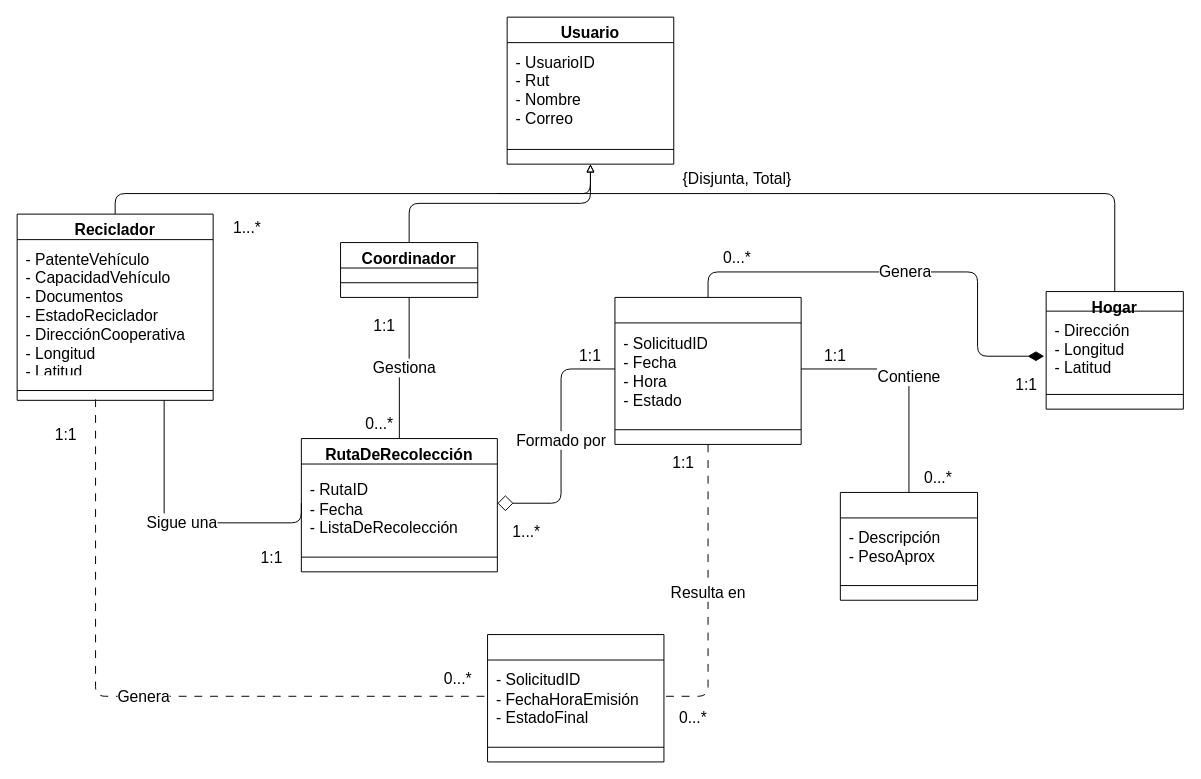
Image size: 1201x779. Some labels were removed from this diagram. The shapes that lost their labels are listed below. From the top down, each one's box as (x1, y1, x2, y2) in pixels, then its label:
(614, 296, 801, 444): SolicitudDeRecolección
(839, 491, 978, 600): DetalleMaterial
(487, 634, 664, 762): Comprobante
